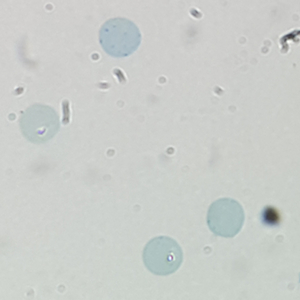erythrocyte: (140, 234, 185, 278), (17, 103, 61, 147)
punctate reticulocyte: (97, 16, 143, 59), (205, 197, 246, 239)
